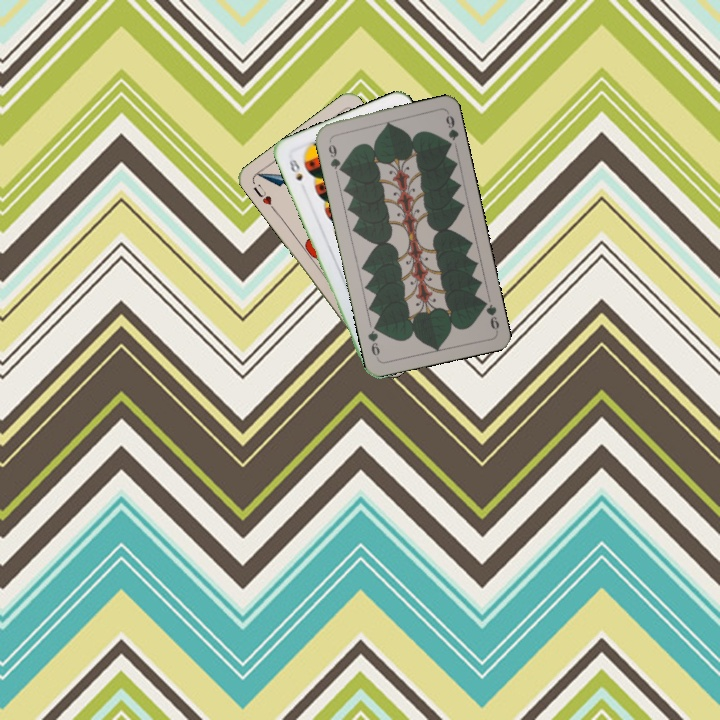G9: (477, 295, 502, 334), (324, 136, 345, 176)
HU: (249, 180, 278, 213)
S8: (285, 155, 305, 183)
